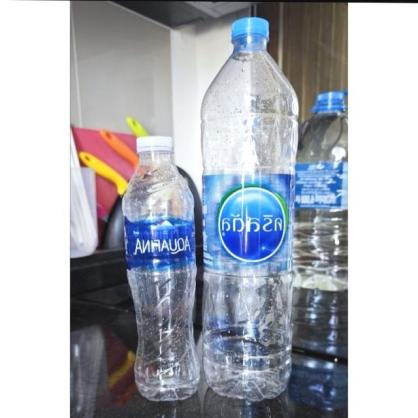bottle: (201, 16, 301, 401)
cap: (121, 132, 200, 400), (229, 16, 271, 50)
label: (208, 168, 296, 274), (123, 218, 192, 272), (135, 135, 173, 157)
